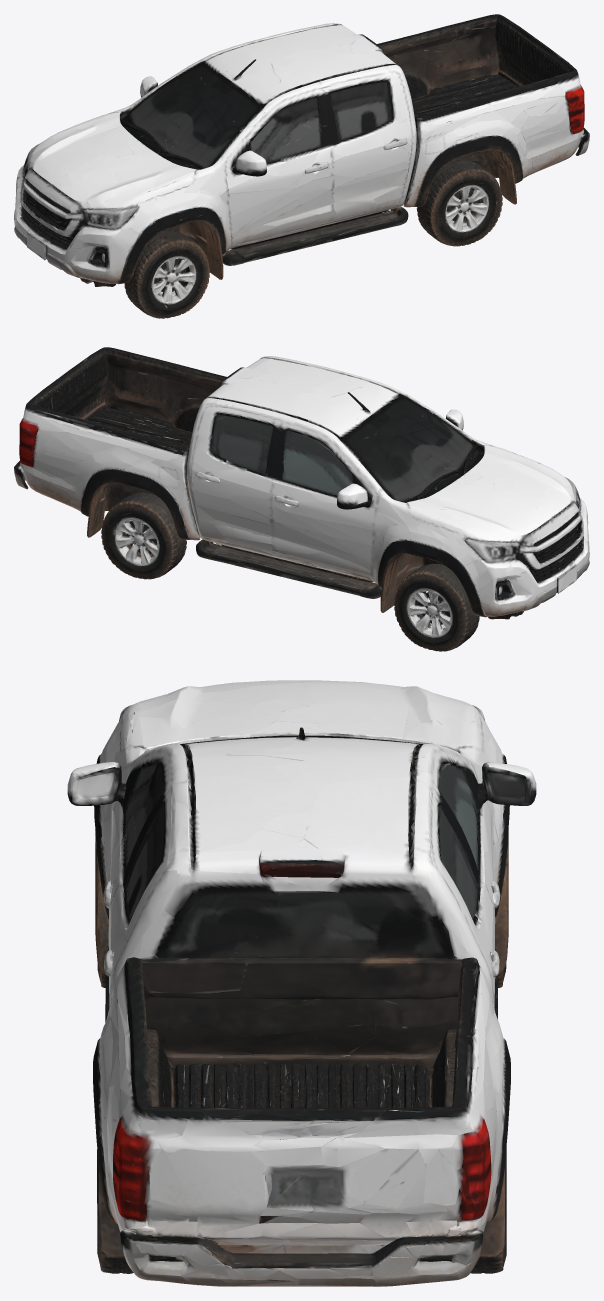
Rendered from original-pickup.glb.
3 views of the same model, one above another, from view 1: azimuth 30°, elevation 25°; view 2: azimuth 150°, elevation 25°; view 3: azimuth 270°, elevation 25° (orthographic). The views are drawn at different scales.
Visible parts, largest first — view 1: Mesh_0; view 2: Mesh_0; view 3: Mesh_0.
Boxes of the visible parts, box(x1,y1,x2,y2) form: Mesh_0: box(14, 14, 589, 318); Mesh_0: box(14, 347, 589, 651); Mesh_0: box(67, 680, 536, 1286).
Bounding box in the file's own units: 1.9 × 0.6661 × 0.745.
1 material, 1 textured.
